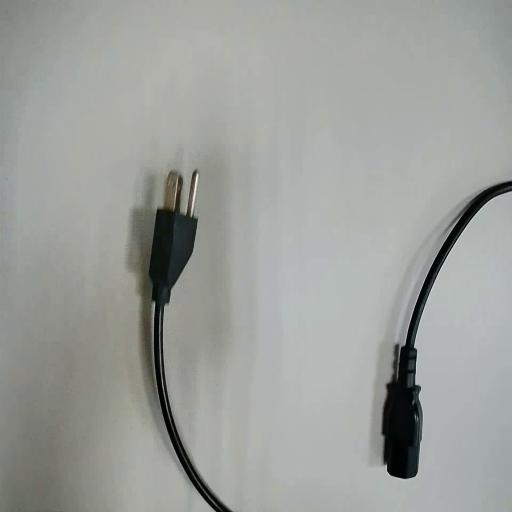wire: (382, 182, 511, 477), (148, 192, 229, 511)
